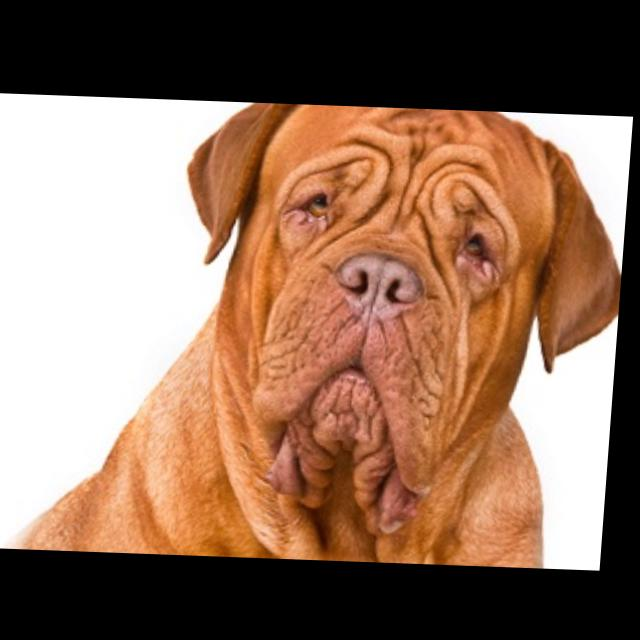dogue_de_bordeaux: (4, 95, 635, 567)
